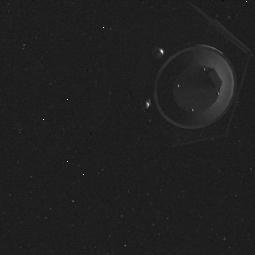cheops: (123, 6, 255, 147)
